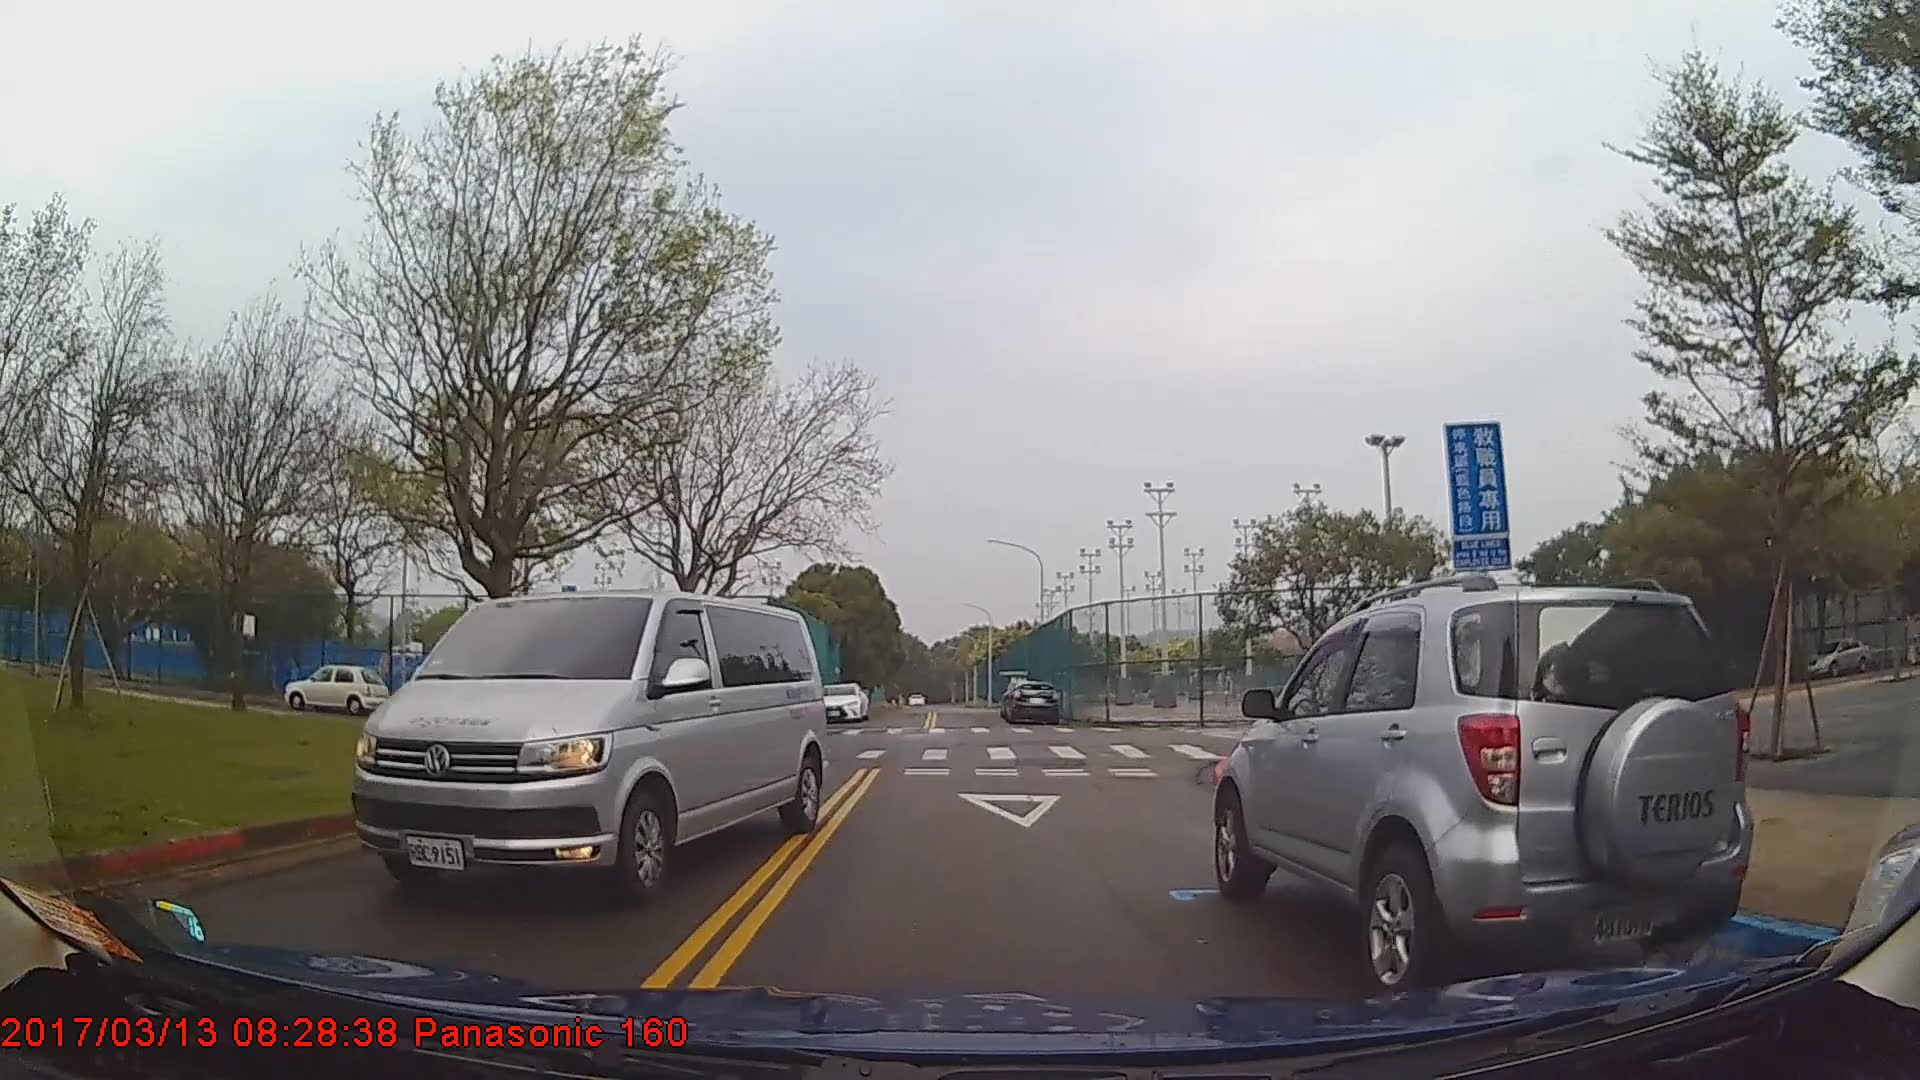vehicle: (1211, 584, 1753, 998), (345, 591, 828, 906), (284, 665, 384, 713), (1804, 637, 1871, 679), (1004, 679, 1060, 724), (814, 682, 866, 723)
